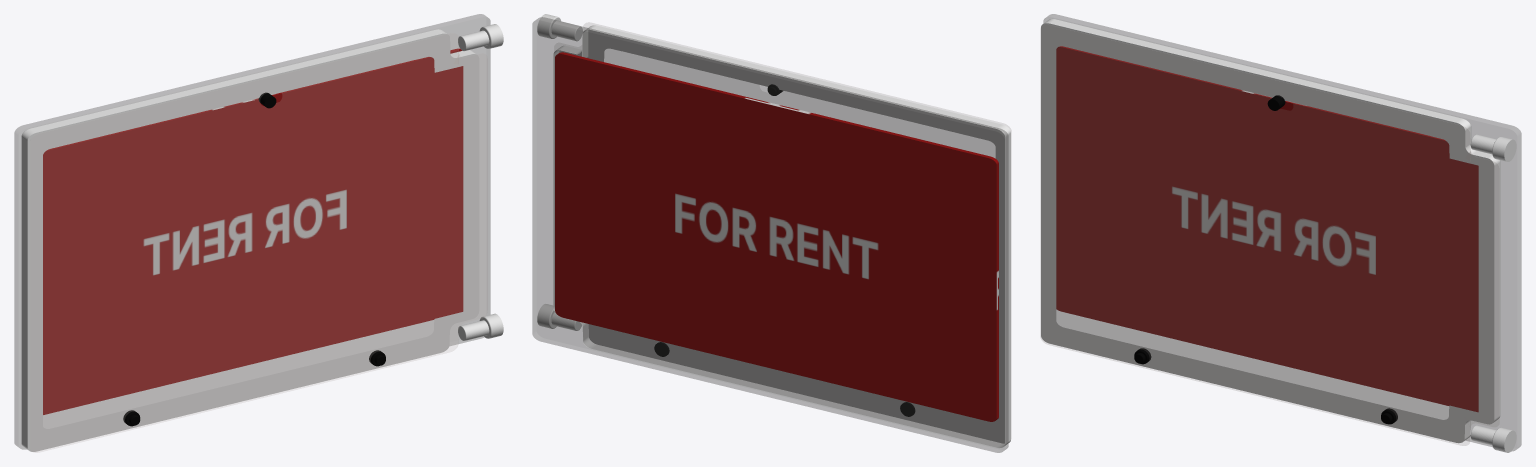
Rendered from a5landsr8.glb.
3 views of the same model, side by side, from view 1: azimuth 30°, elevation 25°; view 2: azimuth 150°, elevation 25°; view 3: azimuth 330°, elevation 25° (orthographic).
Visible parts, largest first — view 1: a4horzone; view 2: a4horzone; view 3: a4horzone.
Boxes of the visible parts, box(x1,y1,x2,y2) form: a4horzone: box(14, 14, 503, 452); a4horzone: box(532, 14, 1011, 452); a4horzone: box(1040, 14, 1521, 452).
Bounding box in the file's own units: 0.3398 × 0.2208 × 0.0214.
6 materials, 1 textured.
